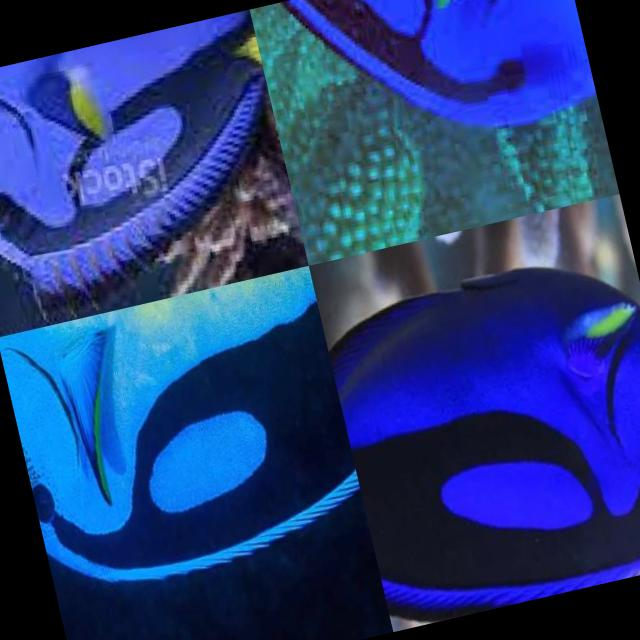BlueTang: (318, 239, 640, 632), (0, 264, 367, 598), (0, 9, 299, 310), (271, 0, 597, 166)
